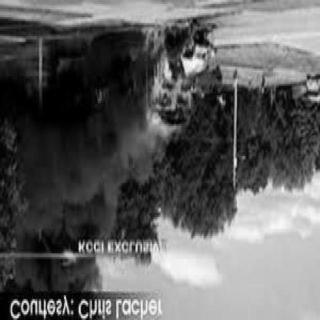Fire: (121, 23, 215, 135)
Smoke: (13, 100, 169, 292)
